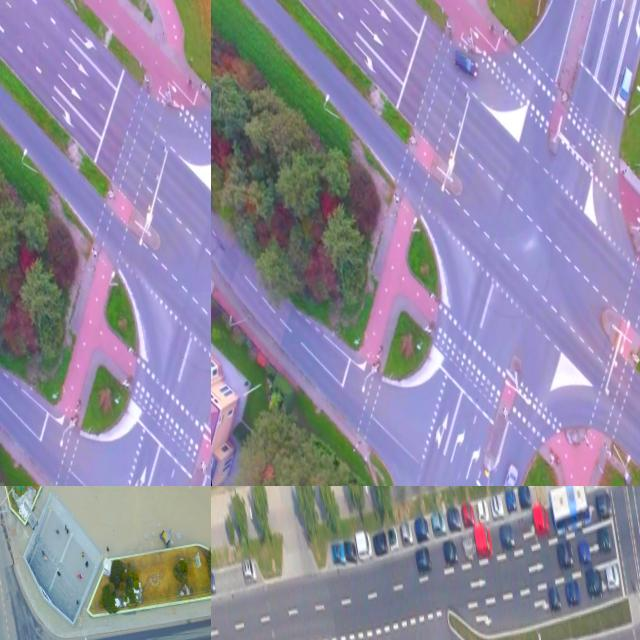UAI: (611, 64, 640, 112), (451, 45, 481, 81), (497, 461, 523, 486), (532, 504, 551, 538), (555, 539, 575, 571), (585, 566, 604, 599), (475, 525, 494, 558), (595, 488, 614, 520), (415, 545, 434, 574), (596, 525, 613, 557), (356, 529, 374, 559), (498, 523, 516, 552), (413, 515, 431, 544), (604, 562, 621, 591), (565, 581, 582, 608), (443, 539, 460, 566), (373, 530, 390, 556), (461, 500, 476, 528), (331, 539, 347, 565), (431, 511, 447, 537), (446, 506, 462, 532), (577, 539, 592, 566), (548, 585, 563, 612), (490, 492, 505, 519), (476, 496, 490, 524), (243, 557, 258, 583), (463, 535, 477, 562), (504, 486, 518, 513), (400, 521, 415, 546), (344, 539, 358, 564), (517, 486, 532, 509), (388, 526, 400, 551), (211, 568, 217, 595)
car: (548, 486, 593, 535)
